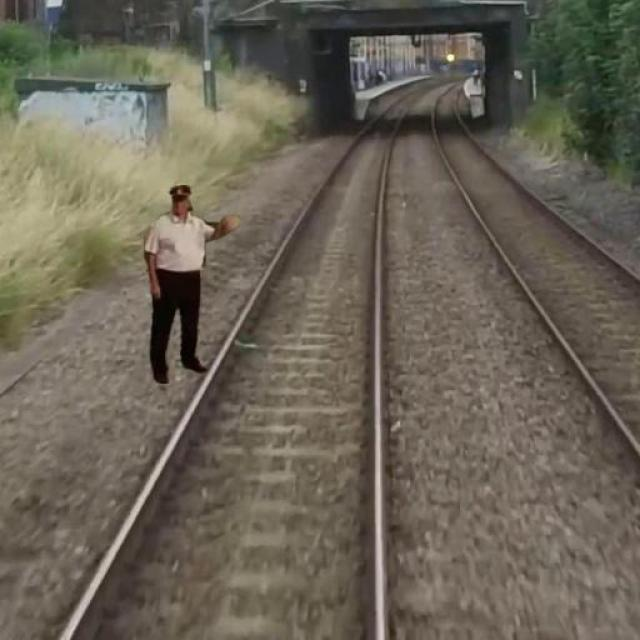people: (141, 181, 240, 386)
